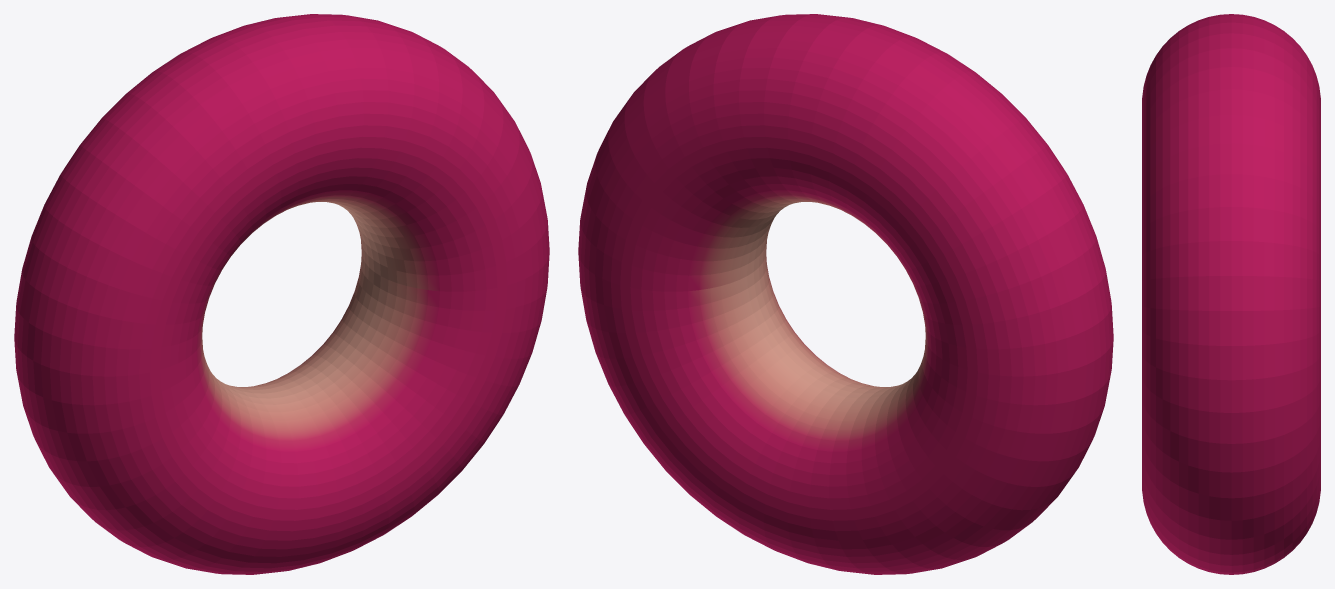
The picture shows the model from 3 angles, left to right: view 1: azimuth 30°, elevation 25°; view 2: azimuth 150°, elevation 25°; view 3: azimuth 270°, elevation 25°; orthographic projection. The views are drawn at different scales.
Parts seen in each view (by area): view 1: world; view 2: world; view 3: world.
Part boxes in pixels (box(x1,y1,x2,y2)): world: box(14, 14, 549, 574); world: box(578, 14, 1113, 574); world: box(1142, 14, 1320, 574).
Bounding box in the file's own units: 31.33 × 31.27 × 9.98.
